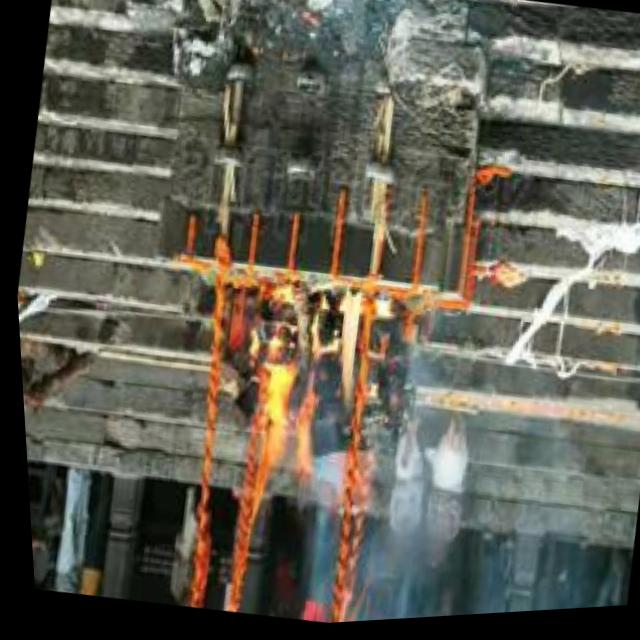Fire: (224, 280, 386, 512)
